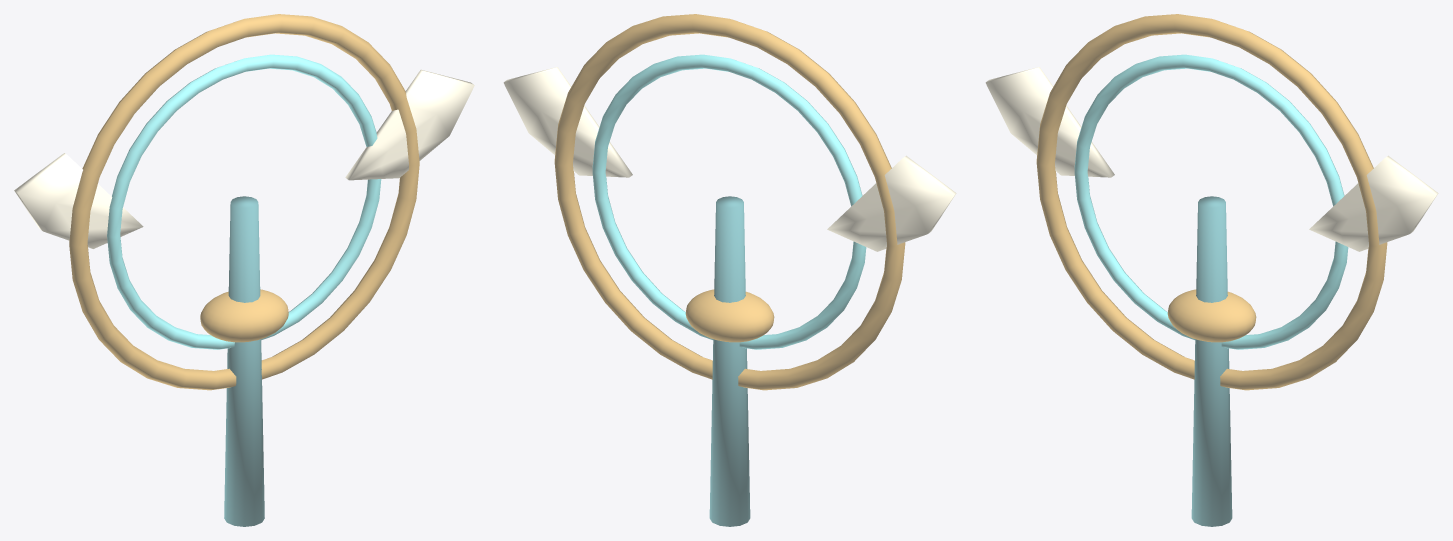
Rendered from sky_anchor.glb.
3 renders of one model, left to right at view 1: azimuth 30°, elevation 25°; view 2: azimuth 150°, elevation 25°; view 3: azimuth 330°, elevation 25°, orthographic.
Visible parts, largest first — view 1: sky_anchor_surface; view 2: sky_anchor_surface; view 3: sky_anchor_surface.
Part boxes in pixels (left/top/right/bottom): sky_anchor_surface: left=14, top=14, right=474, bottom=526; sky_anchor_surface: left=503, top=14, right=956, bottom=526; sky_anchor_surface: left=985, top=14, right=1438, bottom=526.
Bounding box in the file's own units: 9 × 9.48 × 1.3.
